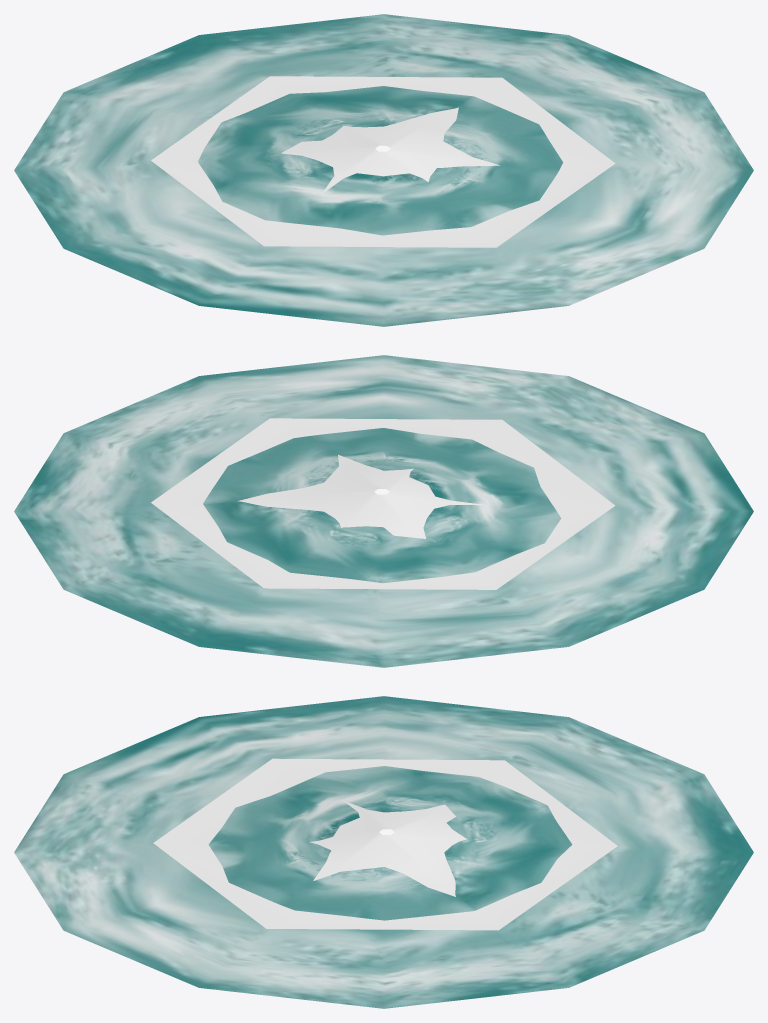
The model's file is waterwakes.fbx.
The picture shows the model from 3 angles, top to bottom: view 1: azimuth 30°, elevation 25°; view 2: azimuth 150°, elevation 25°; view 3: azimuth 270°, elevation 25°; orthographic projection.
Parts seen in each view (by area): view 1: outer, inner; view 2: outer, inner; view 3: outer, inner.
Boxes of the visible parts, x1,y1,x2,y2 form: outer: (14,14,753,326); inner: (151,76,615,247); outer: (14,355,753,667); inner: (151,418,615,589); outer: (14,696,753,1008); inner: (153,758,617,930).
Size of the model in its own units: 2359 by 72.36 by 2359.
Materials: 2 (2 with a texture image).
